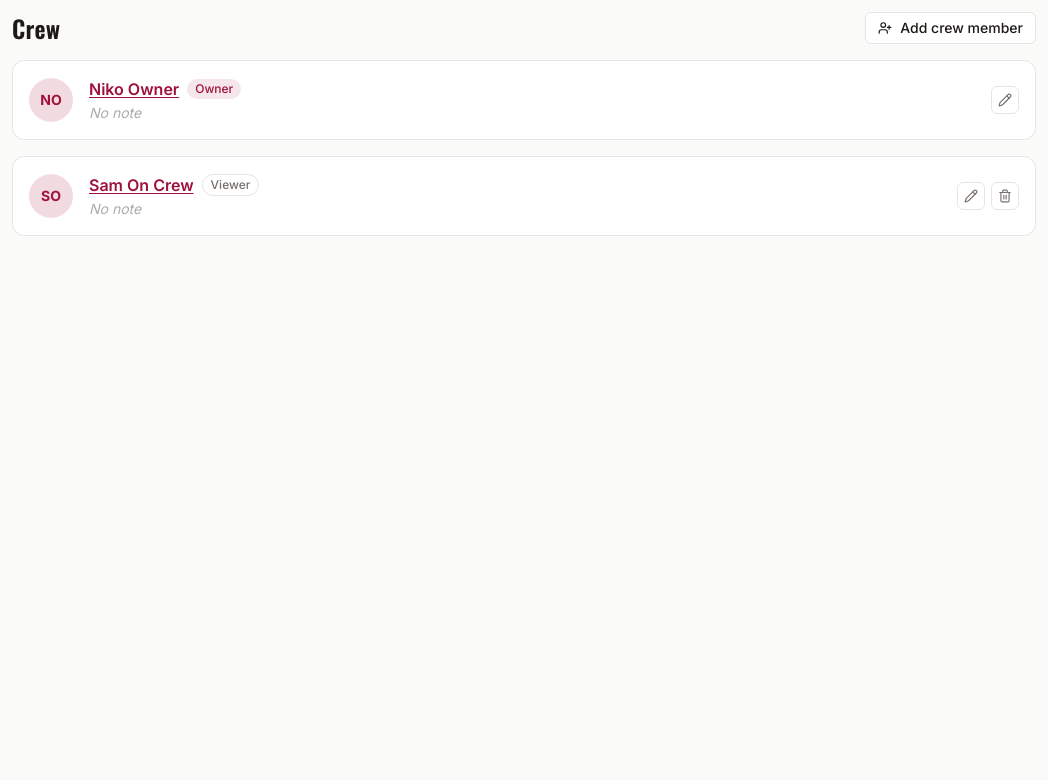
Scenario: CrewPage add-from-following (#198 follow-up) › offers the people the owner follows, minus anyone already on the crew
The width and height of the screenshot is (1048, 780).
Click the button "Add crew member" at [951, 28], box [865,12,1036,44]
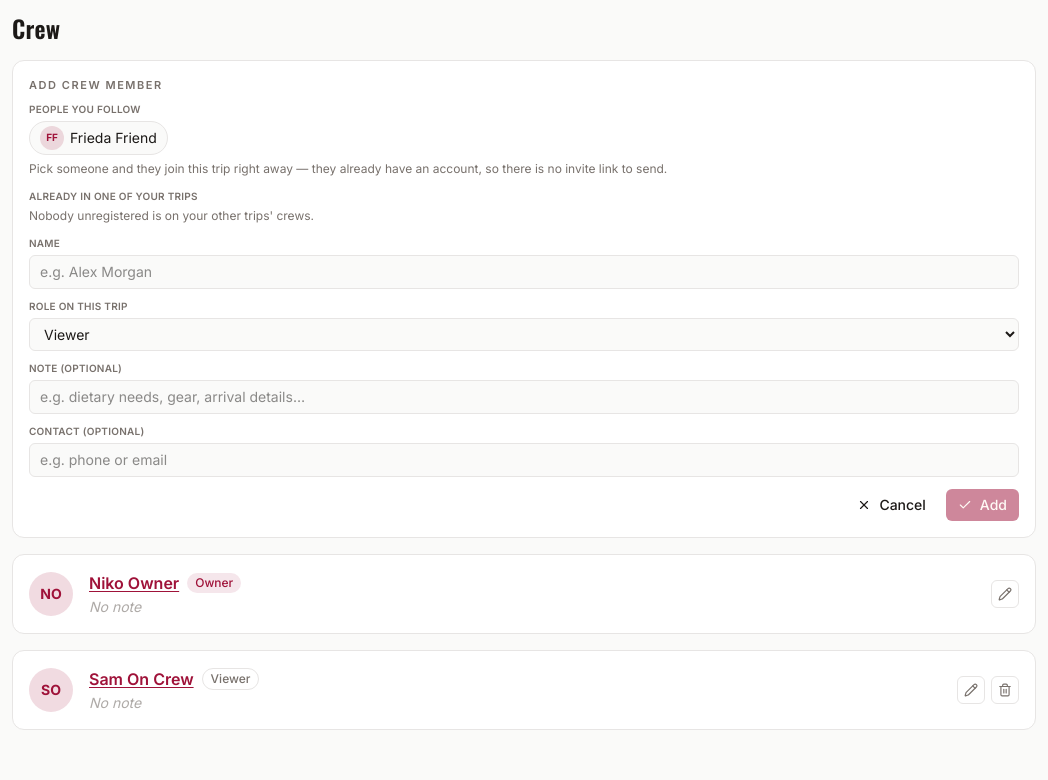
Expected: the text "People you follow" is shown, [29,102,141,114]
Expected: the element that starts with "Add crew member" is shown, [12,60,1036,538]
Expected: the button "FF Frieda Friend" is shown, [29,120,168,154]
